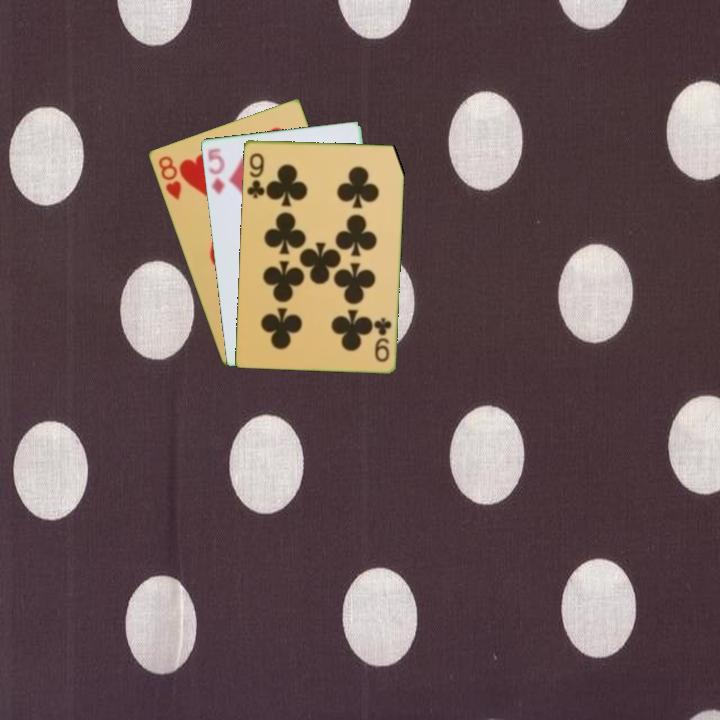5d: (204, 144, 228, 197)
8h: (154, 152, 184, 203)
9c: (243, 149, 267, 201), (371, 314, 394, 364)
